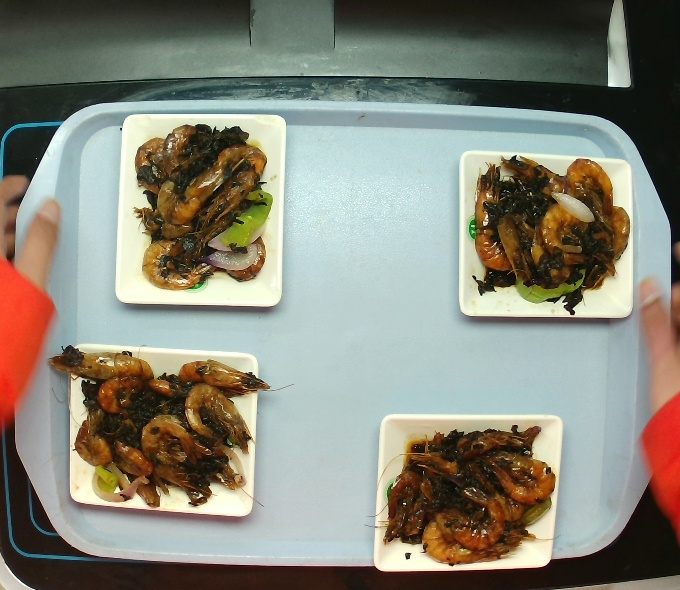wcq-GanCaiXia: (63, 351, 265, 513), (130, 107, 273, 303), (471, 147, 629, 314), (377, 420, 555, 565)
